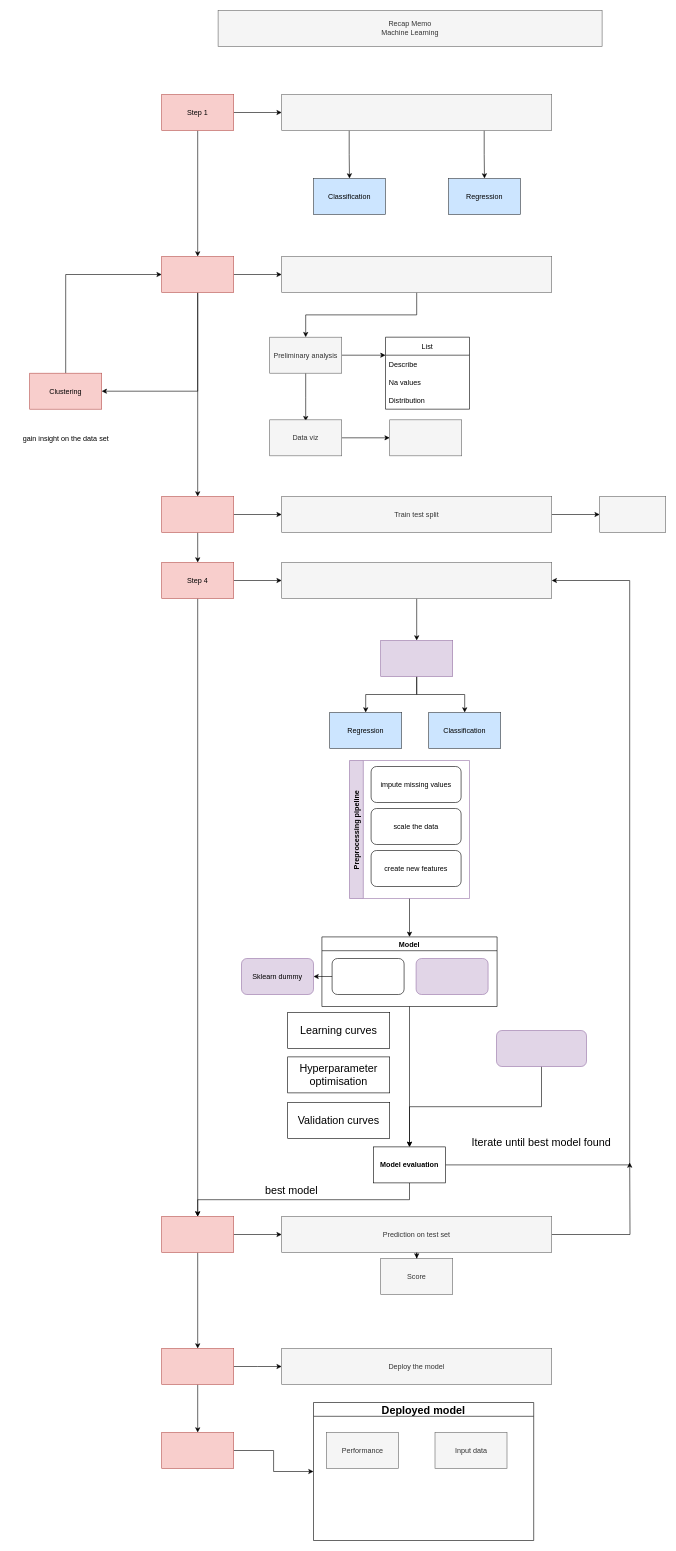
This 676x1551 diagram has some shape labels left out. Here are the shapes that lost their labels. From the top down, the centre of each, then its label:
point 416,112: Problem to analyse
point 197,274: Step 2
point 416,274: Data analysis
point 425,437: Plot distribution Scatter plot Geographical data Temporal analysis
point 197,514: Step 3
point 632,514: Stratification
point 416,580: Modelisation (Train data)
point 416,658: Dimensionality reduction
point 368,976: Test naive model
point 452,976: ML models
point 541,1048: Choose metric
point 197,1234: Step 5
point 197,1366: Step 6
point 197,1450: Monitoring
